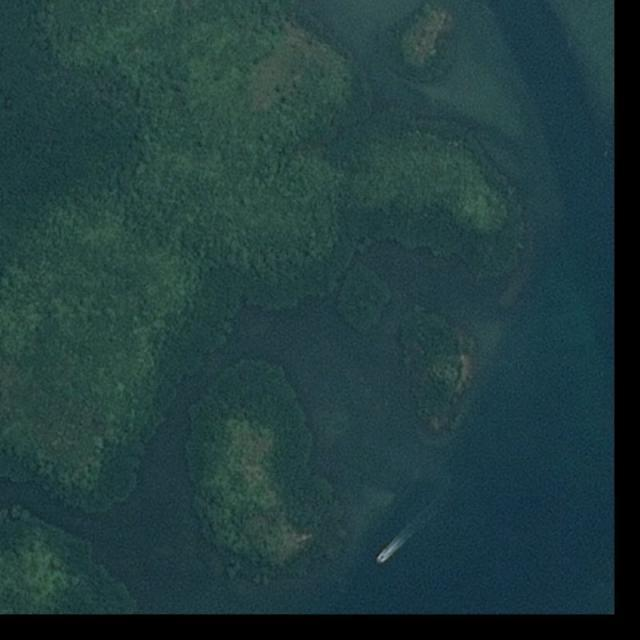ship: (375, 553, 386, 564)
